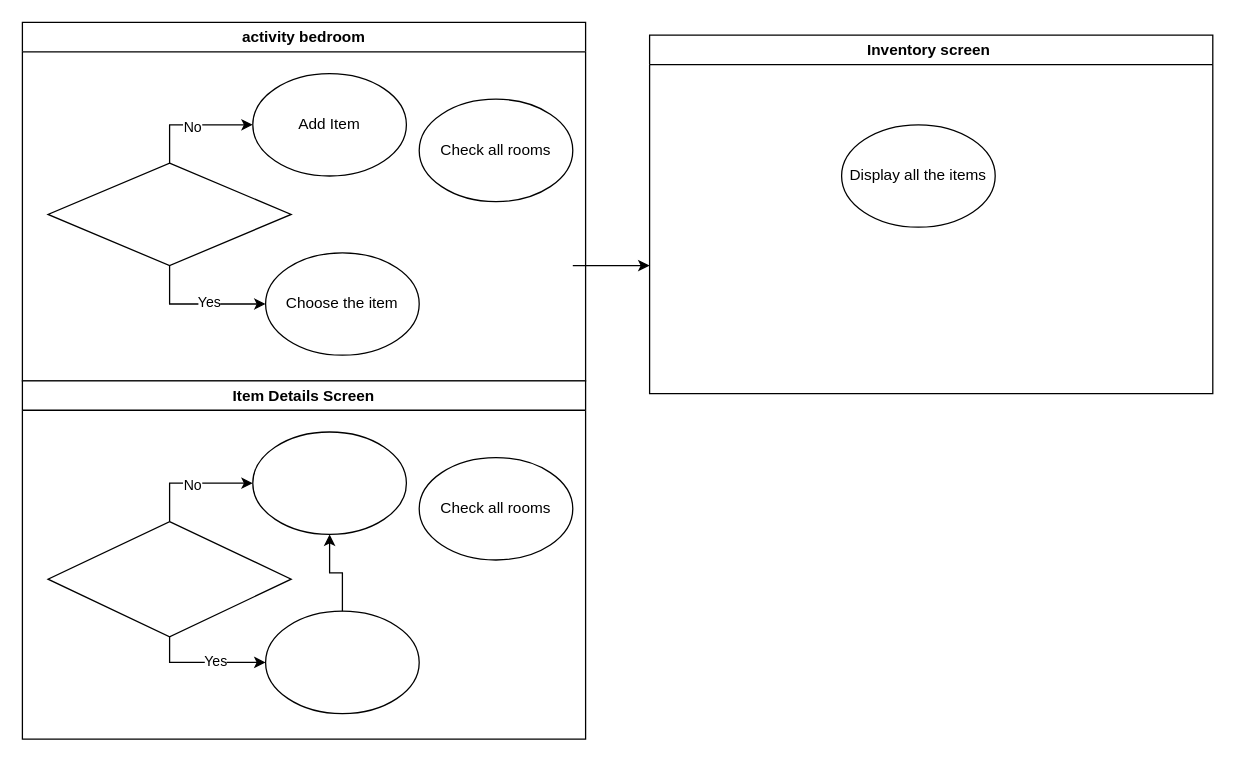
This 1235x762 diagram has some shape labels left out. The centre of each missing label's shape, as x and y in pixels:
Edit details: (x=341, y=662)
is the user wish to change the details?: (x=169, y=578)
Is there user's desired items?: (x=169, y=214)
No action needed: (x=329, y=482)
